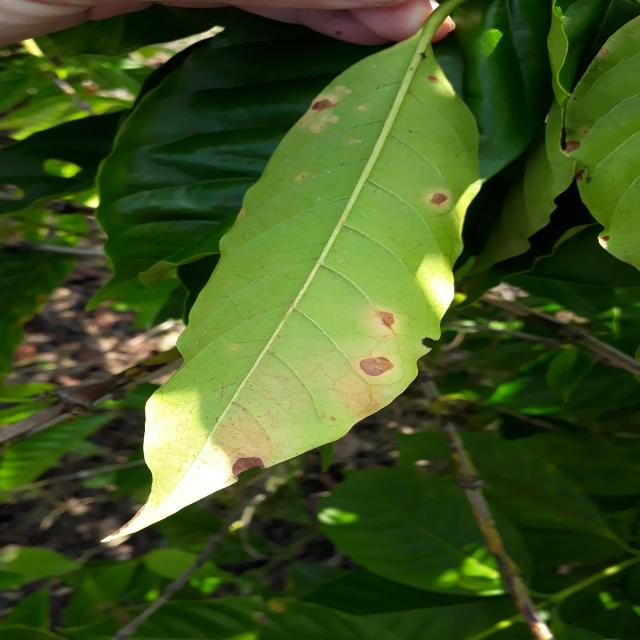Enfermedad-Roya: (104, 7, 483, 547)
